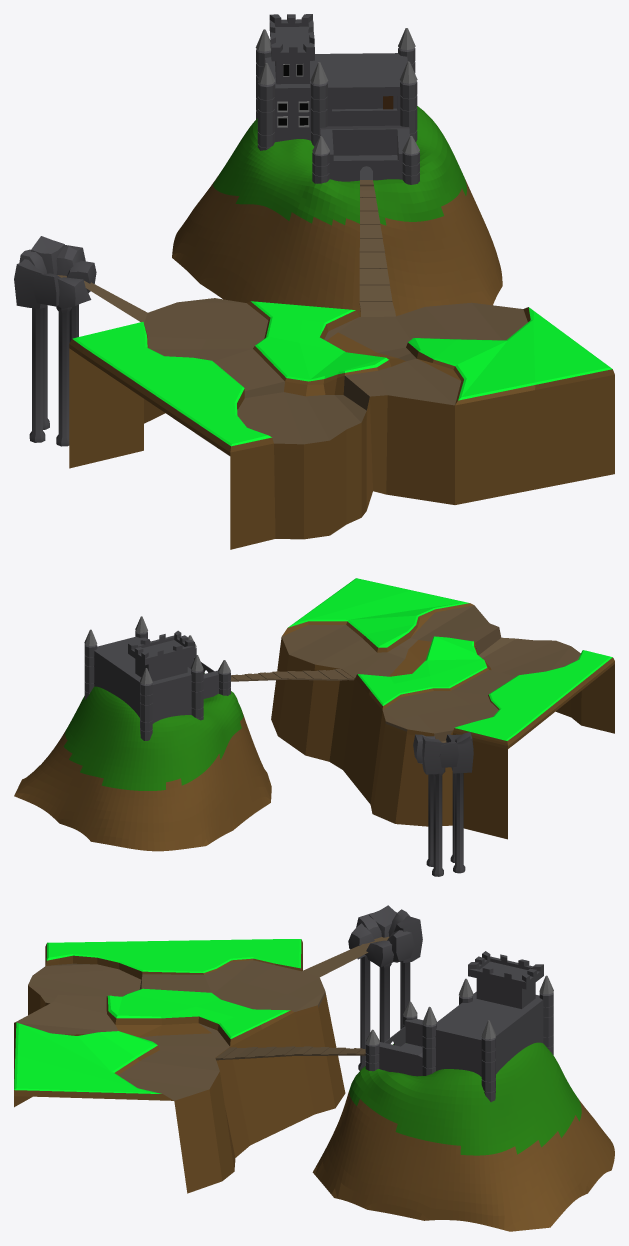
The model's file is Map_with_assets_01 1.fbx.
3 views of the same model, one above another, from view 1: azimuth 30°, elevation 25°; view 2: azimuth 150°, elevation 25°; view 3: azimuth 270°, elevation 25° (orthographic). The views are drawn at different scales.
Parts seen in each view (by area): view 1: Sphere, Sphere.001; view 2: Sphere, Sphere.001; view 3: Sphere, Sphere.001.
Part boxes in pixels (x1,y1,x2,y2): Sphere: (14,14,614,549); Sphere.001: (359,180,395,316); Sphere: (14,578,614,876); Sphere.001: (230,669,354,681); Sphere: (14,905,614,1231); Sphere.001: (215,1046,365,1060).
Size of the model in its own units: 637 by 736 by 318.
